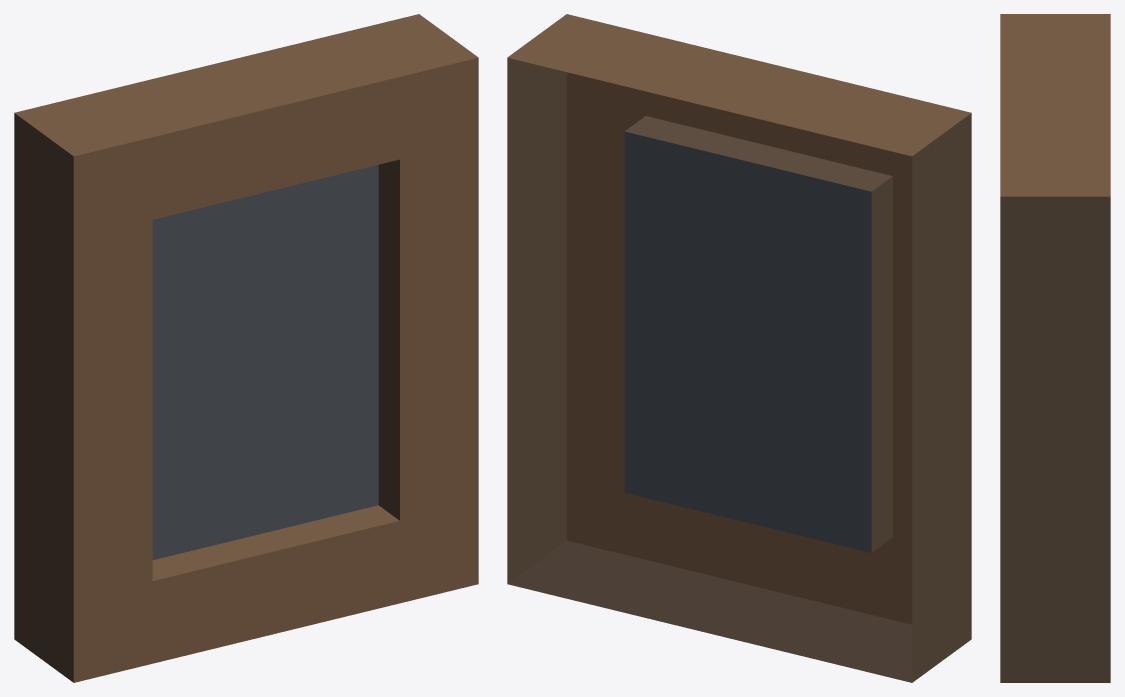
File: TB_D_Bd_Window_Sqr_A.FBX
3 renders of one model, left to right at view 1: azimuth 30°, elevation 25°; view 2: azimuth 150°, elevation 25°; view 3: azimuth 270°, elevation 25°, orthographic. The views are drawn at different scales.
Parts seen in each view (by area): view 1: TB_D_Bd_Window_Sqr_A; view 2: TB_D_Bd_Window_Sqr_A; view 3: TB_D_Bd_Window_Sqr_A.
Boxes of the visible parts, box(x1,y1,x2,y2) form: TB_D_Bd_Window_Sqr_A: box(14, 14, 478, 682); TB_D_Bd_Window_Sqr_A: box(507, 14, 971, 682); TB_D_Bd_Window_Sqr_A: box(1000, 14, 1110, 682).
Size of the model in its own units: 0.8196 by 1.02 by 0.209.
